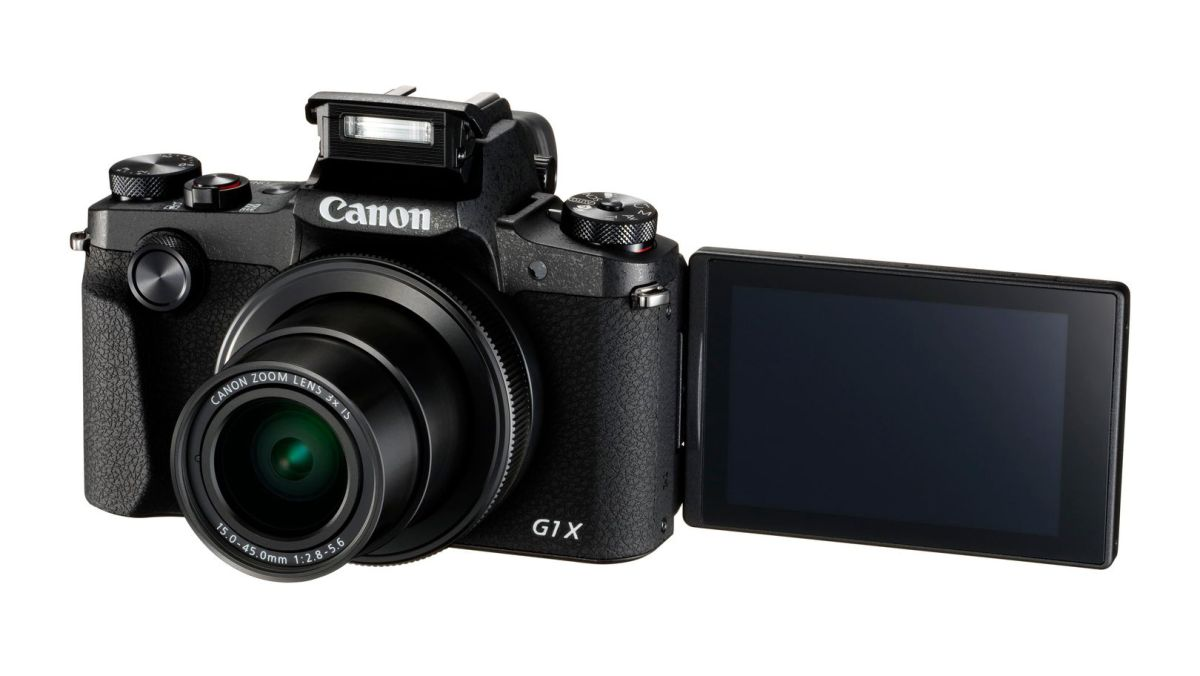camera: (88, 109, 676, 573)
